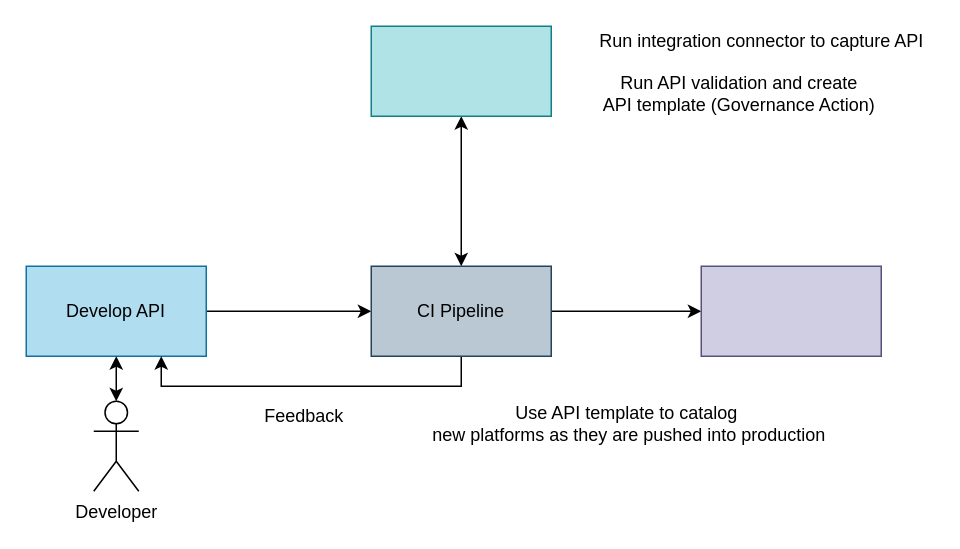
This 960x549 diagram has some shape labels left out. Here are the shapes that lost their labels. From the top down, the centre of each, then its label:
At [460,70]: "Preproduction Test Systems".
At [790,310]: "Production".
